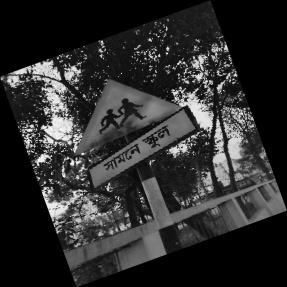School-in-front: (75, 78, 199, 189)
